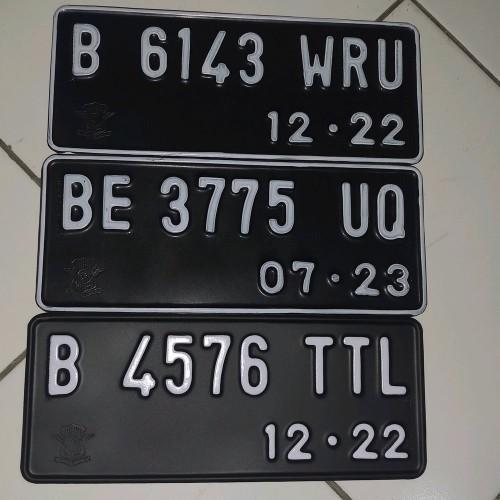1: (172, 24, 196, 82)
3: (158, 174, 194, 238), (232, 25, 268, 88)
4: (117, 326, 160, 399), (196, 25, 232, 88)
5: (158, 326, 196, 401), (264, 176, 297, 235)
6: (238, 327, 276, 401), (135, 22, 172, 81)
7: (196, 327, 238, 401), (194, 174, 229, 238), (230, 176, 264, 238)
B: (44, 327, 85, 402), (58, 171, 100, 237), (67, 20, 108, 82)
E: (101, 171, 136, 237)
L: (374, 327, 411, 400)
Q: (374, 180, 412, 242)
R: (336, 34, 372, 90)
T: (335, 326, 374, 400), (302, 328, 336, 400)
U: (338, 180, 373, 242), (371, 33, 406, 94)
W: (296, 28, 336, 91)
